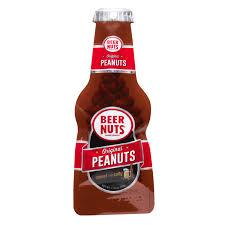Glass bottle: (63, 4, 163, 222)
